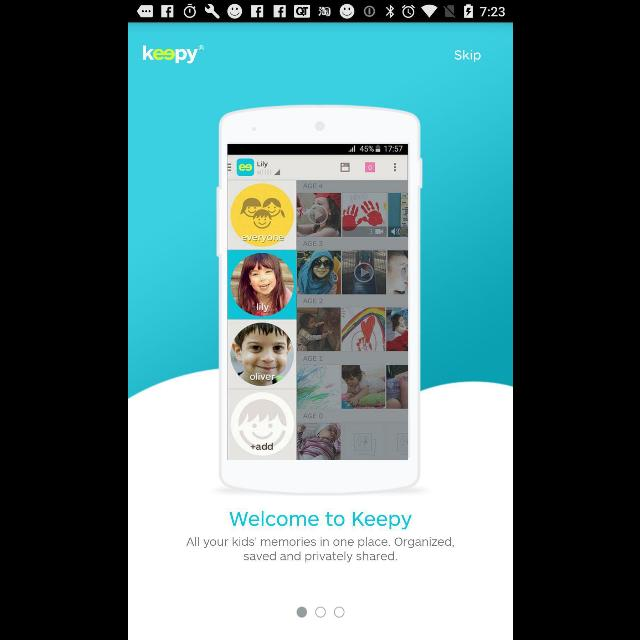image: (214, 105, 422, 495), (142, 44, 202, 64)
pageindicator: (296, 606, 344, 618)
text: (185, 537, 453, 563), (228, 510, 412, 530), (454, 49, 480, 62)
uppertaskbar: (128, 1, 512, 23)
